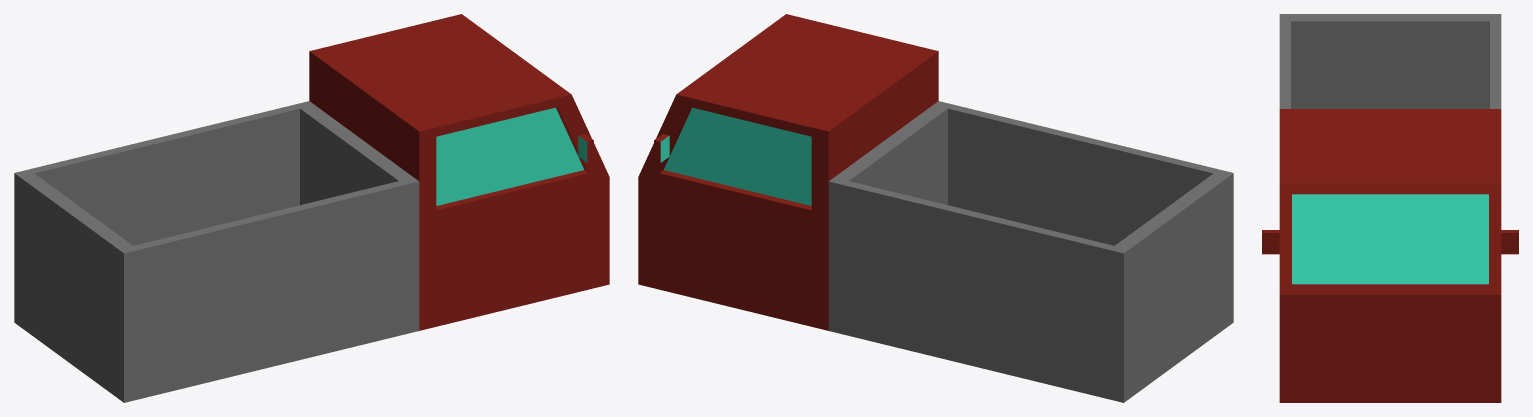
Rendered from truck.glb.
The picture shows the model from 3 angles, left to right: view 1: azimuth 30°, elevation 25°; view 2: azimuth 150°, elevation 25°; view 3: azimuth 270°, elevation 25°; orthographic projection.
Visible parts, largest first — view 1: Cube.003, Cube; view 2: Cube.003, Cube; view 3: Cube, Cube.003, Cube.002.
Part boxes in pixels (x1,y1,x2,y2): Cube.003: (14,101,419,402); Cube: (309,14,609,330); Cube.003: (828,101,1233,402); Cube: (638,14,938,330); Cube: (1279,109,1501,402); Cube.003: (1279,14,1501,108); Cube.002: (1262,230,1518,254).
Bounding box in the file's own units: 2.55 × 1 × 1.16.
